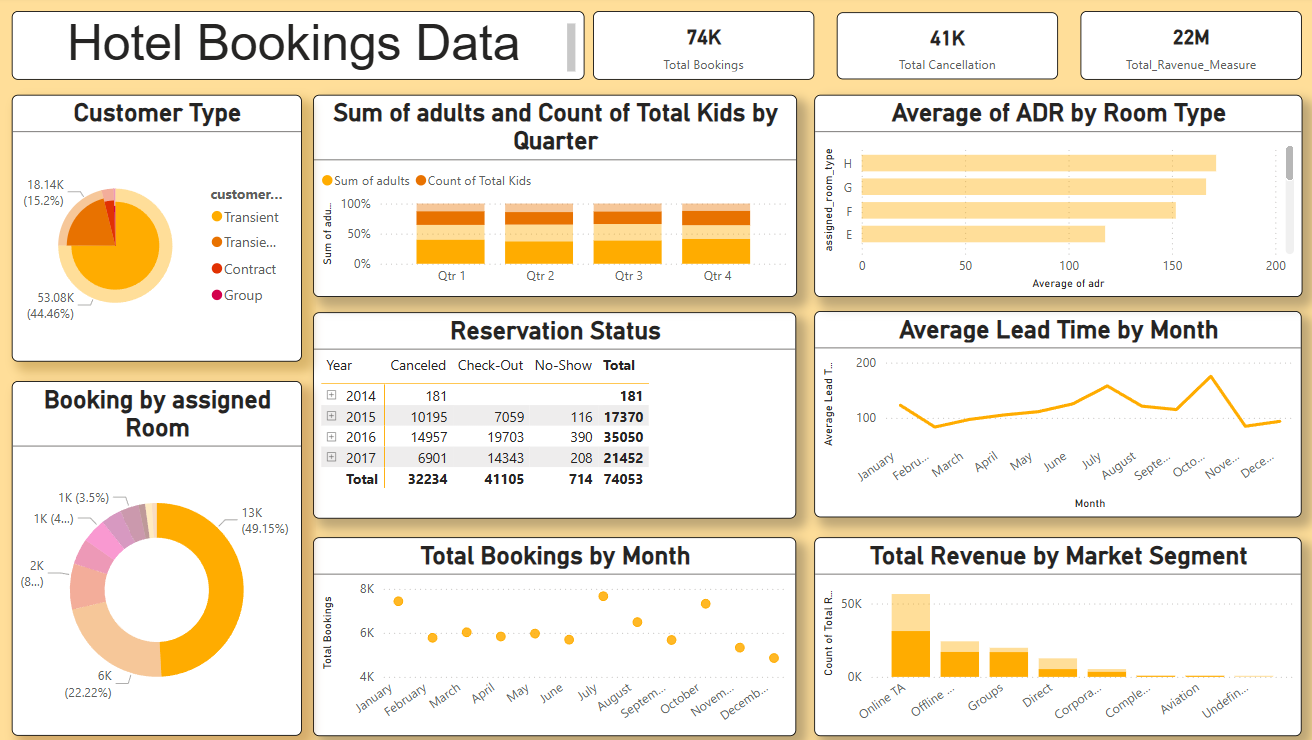

The page's visual inventory and layout, read from the dashboard file:
{"tool":"powerbi","page":{"name":"Page 1","canvas":[1280,720],"ordinal":0},"visuals":[{"type":"card","title":"Total Bookings","fields":{"Values":["Hotel_Bookings.Total Bookings"]},"box":[579.1,14.5,213.5,66.4],"z":0},{"type":"card","title":"Total Cancellation","fields":{"Values":["Hotel_Bookings.Total Cancellation"]},"box":[814.3,15.7,213.5,65.1],"z":1},{"type":"card","title":"Total Revenue","fields":{"Values":["Hotel_Bookings.Total_Ravenue_Measure"]},"box":[1049.6,14.5,213.5,66.4],"z":2},{"type":"pivotTable","title":"Reservation Status","fields":{"Rows":["Hotel_Bookings.reservation_status_date.Variation.Date Hierarchy.Year","Hotel_Bookings.reservation_status_date.Variation.Date Hierarchy.Month"],"Columns":["Hotel_Bookings.reservation_status"],"Values":["CountNonNull(Hotel_Bookings.reservation_status)"]},"box":[309.2,305.5,466.6,199],"z":3},{"type":"lineChart","fields":{"Category":["Hotel_Bookings.reservation_status_date.Variation.Date Hierarchy.Month"],"Y":["Hotel_Bookings.Average Lead Time"]},"box":[792.2,304.2,470.7,199],"z":4},{"type":"scatterChart","fields":{"X":["Hotel_Bookings.reservation_status_date.Variation.Date Hierarchy.Month"],"Y":["Hotel_Bookings.Total Bookings"]},"box":[309.2,522.3,466.6,192.1],"z":5},{"type":"clusteredColumnChart","title":"Total Revenue by Market Segment","fields":{"Category":["Hotel_Bookings.market_segment"],"Y":["CountNonNull(Hotel_Bookings.Total Revenue)"]},"box":[792.2,522.3,470.7,192.1],"z":6},{"type":"hundredPercentStackedColumnChart","fields":{"Category":["Hotel_Bookings.reservation_status_date.Variation.Date Hierarchy.Quarter"],"Y":["Sum(Hotel_Bookings.adults)","CountNonNull(Hotel_Bookings.Total Kids)"]},"box":[309.1,95.3,466.9,195.4],"z":7},{"type":"clusteredBarChart","title":"Average of ADR by Room Type","fields":{"Category":["Hotel_Bookings.assigned_room_type"],"Y":["Avg(Hotel_Bookings.adr)"]},"box":[792.7,95.4,471,195],"z":8},{"type":"pieChart","title":"Customer Type","fields":{"Category":["Hotel_Bookings.customer_type"],"Y":["CountNonNull(Hotel_Bookings.customer_type)"]},"box":[18.3,95.6,279.9,258],"z":9},{"type":"textbox","box":[18.1,14.5,552.5,66.4],"z":10},{"type":"donutChart","title":"Booking by assigned Room","fields":{"Category":["Hotel_Bookings.assigned_room_type"],"Y":["Sum(Hotel_Bookings.booking_changes)"]},"box":[18.1,371.6,279.9,342.6],"z":11}]}

Visuals, with their boxes in screenshot pixels (x1, y1, x2, y2), scaled from the page's 1280x720 canvas onto the 1312x740 screenshot:
"Total Bookings" card: (left=594, top=15, right=812, bottom=83)
"Total Cancellation" card: (left=835, top=16, right=1053, bottom=83)
"Total Revenue" card: (left=1076, top=15, right=1295, bottom=83)
"Reservation Status" pivotTable: (left=317, top=314, right=795, bottom=519)
lineChart - Hotel_Bookings.reservation_status_date.Variation.Date Hierarchy.Month x Hotel_Bookings.Average Lead Time: (left=812, top=313, right=1294, bottom=517)
scatterChart - Hotel_Bookings.reservation_status_date.Variation.Date Hierarchy.Month x Hotel_Bookings.Total Bookings: (left=317, top=537, right=795, bottom=734)
"Total Revenue by Market Segment" clusteredColumnChart: (left=812, top=537, right=1294, bottom=734)
hundredPercentStackedColumnChart - Hotel_Bookings.reservation_status_date.Variation.Date Hierarchy.Quarter x Sum(Hotel_Bookings.adults): (left=317, top=98, right=795, bottom=299)
"Average of ADR by Room Type" clusteredBarChart: (left=813, top=98, right=1295, bottom=298)
"Customer Type" pieChart: (left=19, top=98, right=306, bottom=363)
textbox: (left=19, top=15, right=585, bottom=83)
"Booking by assigned Room" donutChart: (left=19, top=382, right=305, bottom=734)
